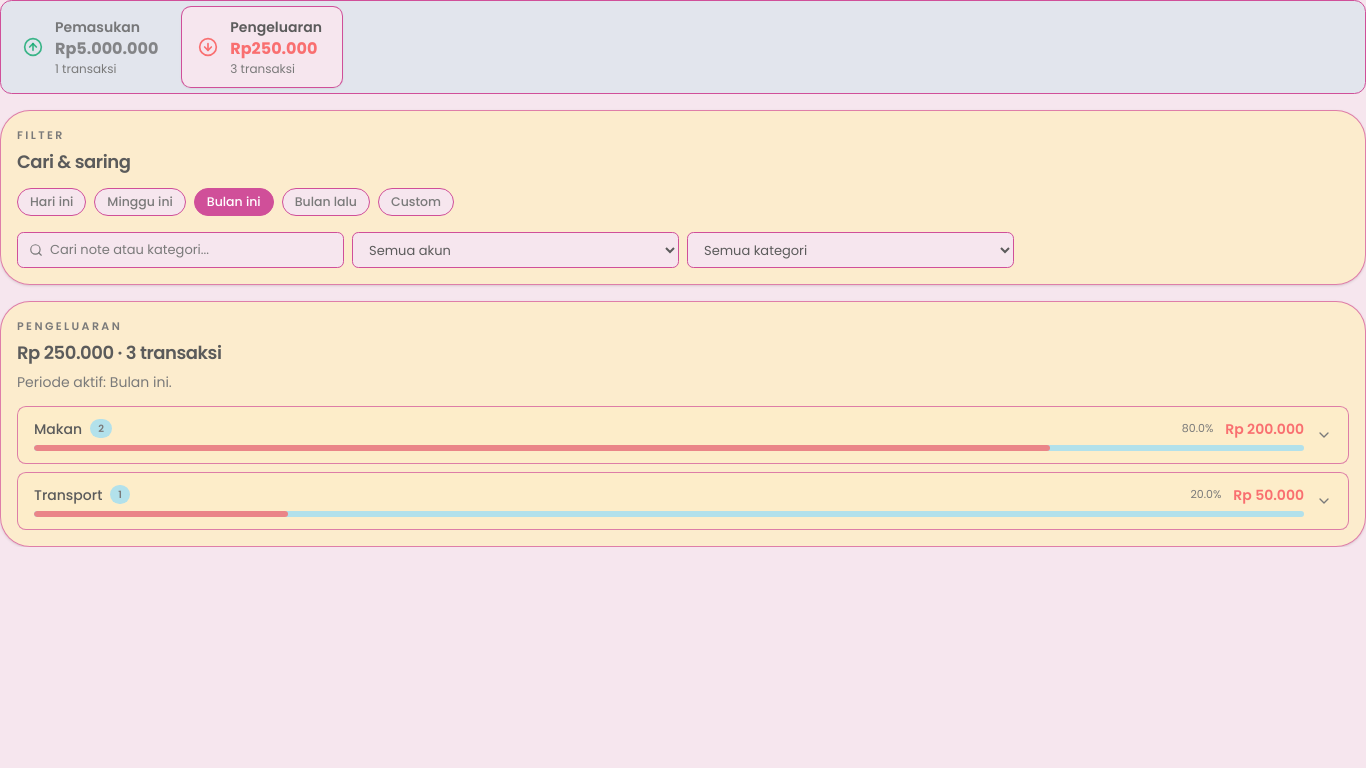
Scenario: DetailsClient (integration) › search input filters the visible groups
This screenshot has width=1366, height=768.
Expected: the button "Makan 2 80.0% Rp 200.000" is shown, x1=17 y1=406 x2=1349 y2=464
In the field named "Cari transaksi": point(180, 250) x1=17 y1=232 x2=344 y2=268, type "Bensin"
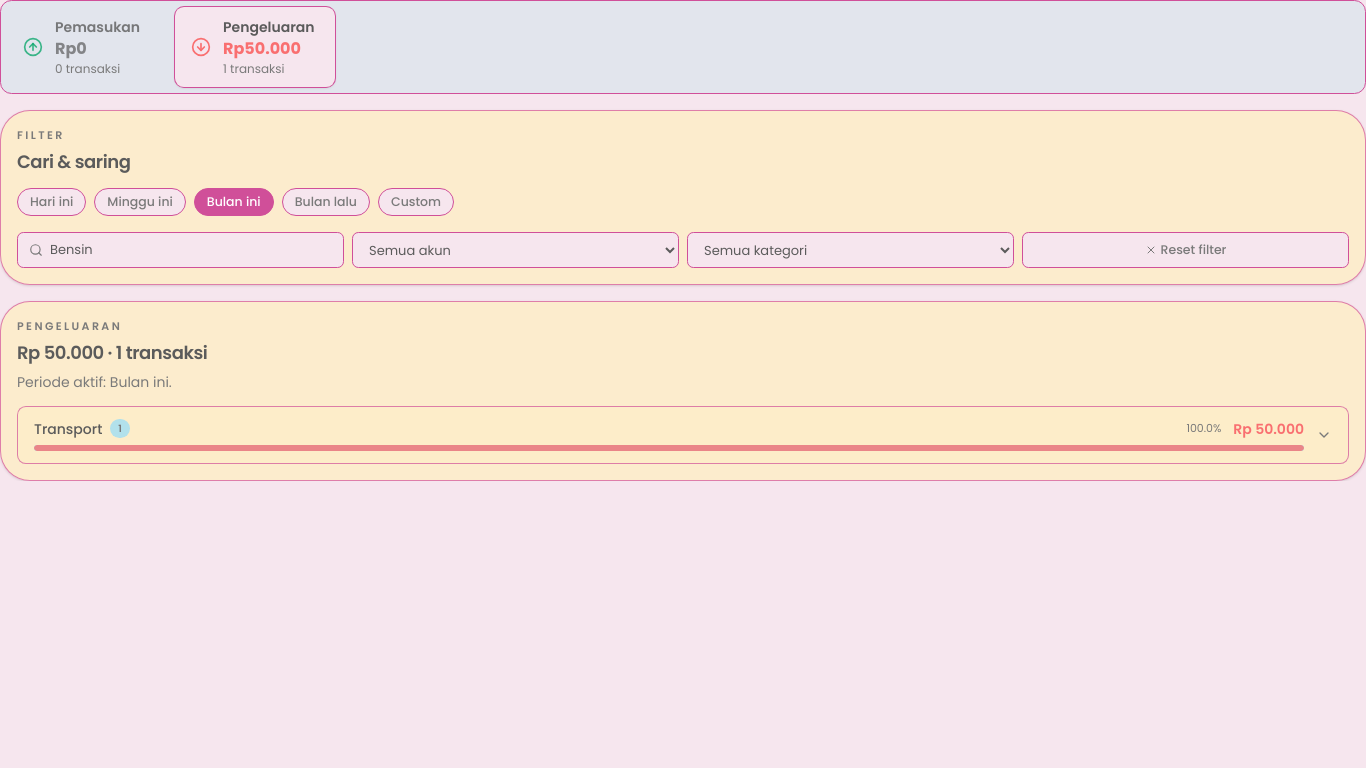
Expected: the button "Makan" is gone
